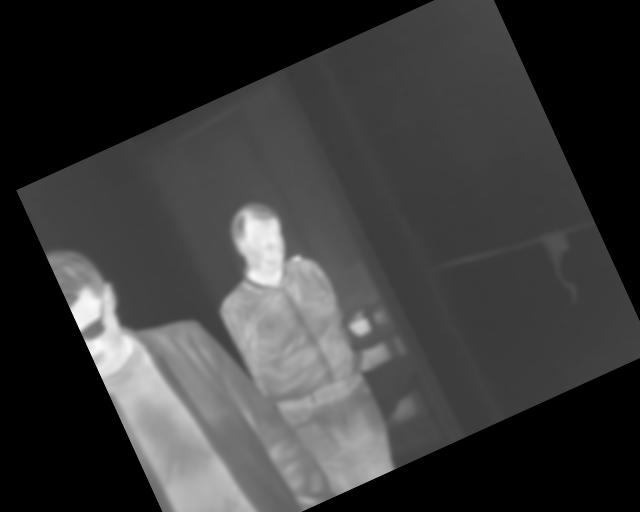face: (219, 193, 299, 285)
